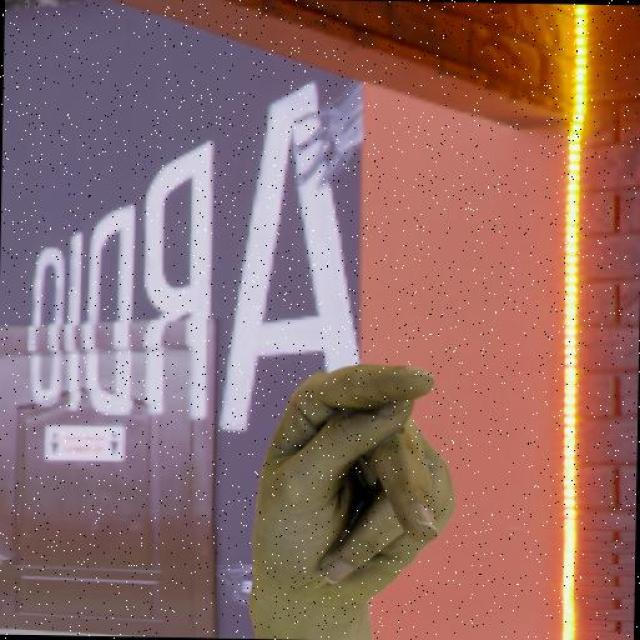P: (244, 356, 463, 615)
